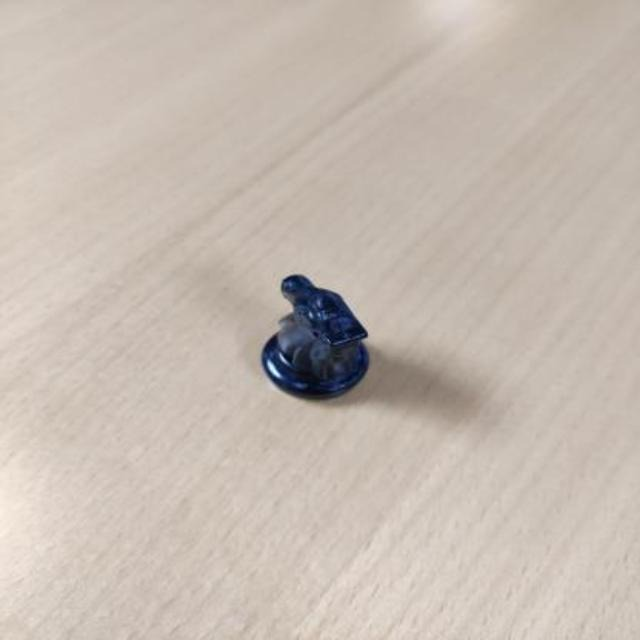black-knight: (262, 274, 374, 400)
